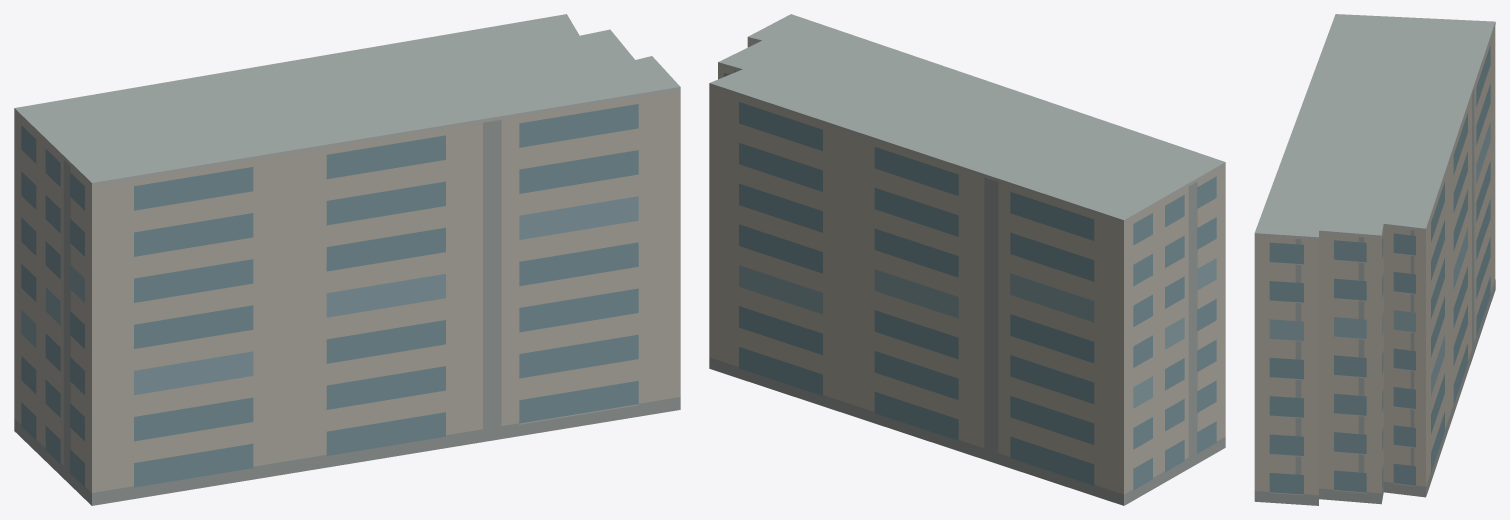
The model's file is survey-upis-32751275.glb.
3 renders of one model, left to right at view 1: azimuth 30°, elevation 25°; view 2: azimuth 150°, elevation 25°; view 3: azimuth 270°, elevation 25°, orthographic. The views are drawn at different scales.
Parts seen in each view (by area): view 1: survey-upis-32751275.tmp; view 2: survey-upis-32751275.tmp; view 3: survey-upis-32751275.tmp.
Boxes of the visible parts, box(x1,y1,x2,y2) form: survey-upis-32751275.tmp: box(14, 14, 680, 505); survey-upis-32751275.tmp: box(709, 14, 1225, 505); survey-upis-32751275.tmp: box(1254, 14, 1495, 505).
Bounding box in the file's own units: 38.35 × 21.5 × 17.48.
